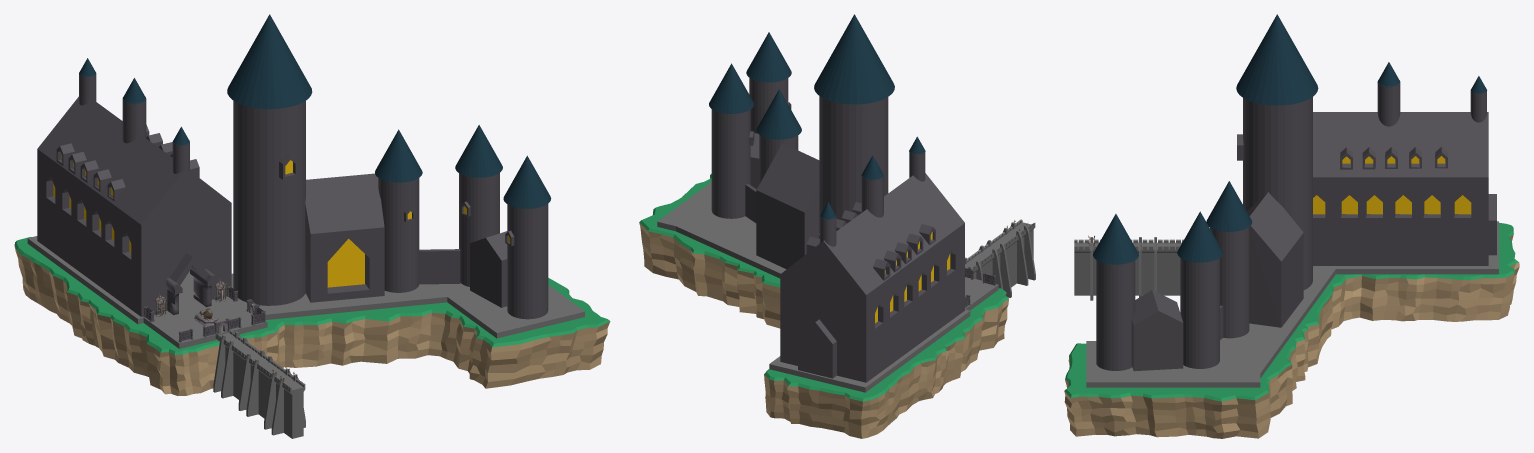
The model's file is LevelFourthDraftPreview.glb.
3 views of the same model, side by side, from view 1: azimuth 30°, elevation 25°; view 2: azimuth 150°, elevation 25°; view 3: azimuth 270°, elevation 25° (orthographic). The views are drawn at different scales.
Visible parts, largest first — view 1: World; view 2: World; view 3: World.
Boxes of the visible parts, x1=… form: World: x1=14, y1=14, x2=610, y2=438; World: x1=639, y1=14, x2=1035, y2=438; World: x1=1064, y1=14, x2=1519, y2=438.
Bounding box in the file's own units: 353 × 288 × 376.
Materials: 10 (1 with a texture image).
